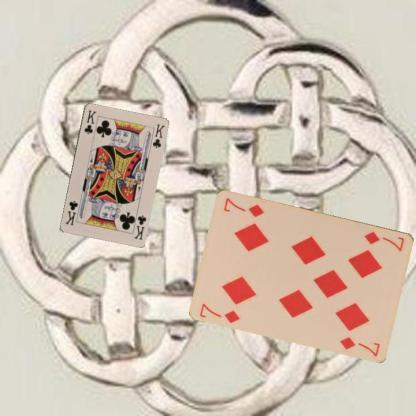7d: (362, 228, 406, 253), (197, 300, 242, 324)
Kc: (131, 212, 147, 241), (82, 108, 98, 136)
